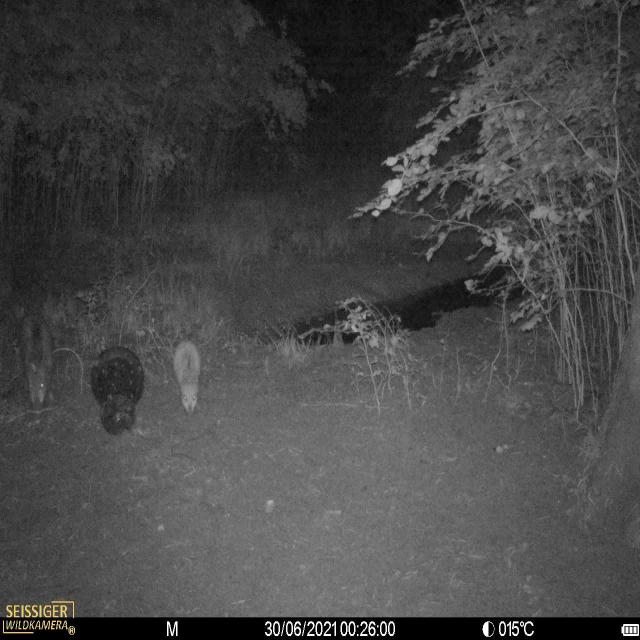wild boar: (16, 306, 56, 408), (168, 332, 208, 419)
